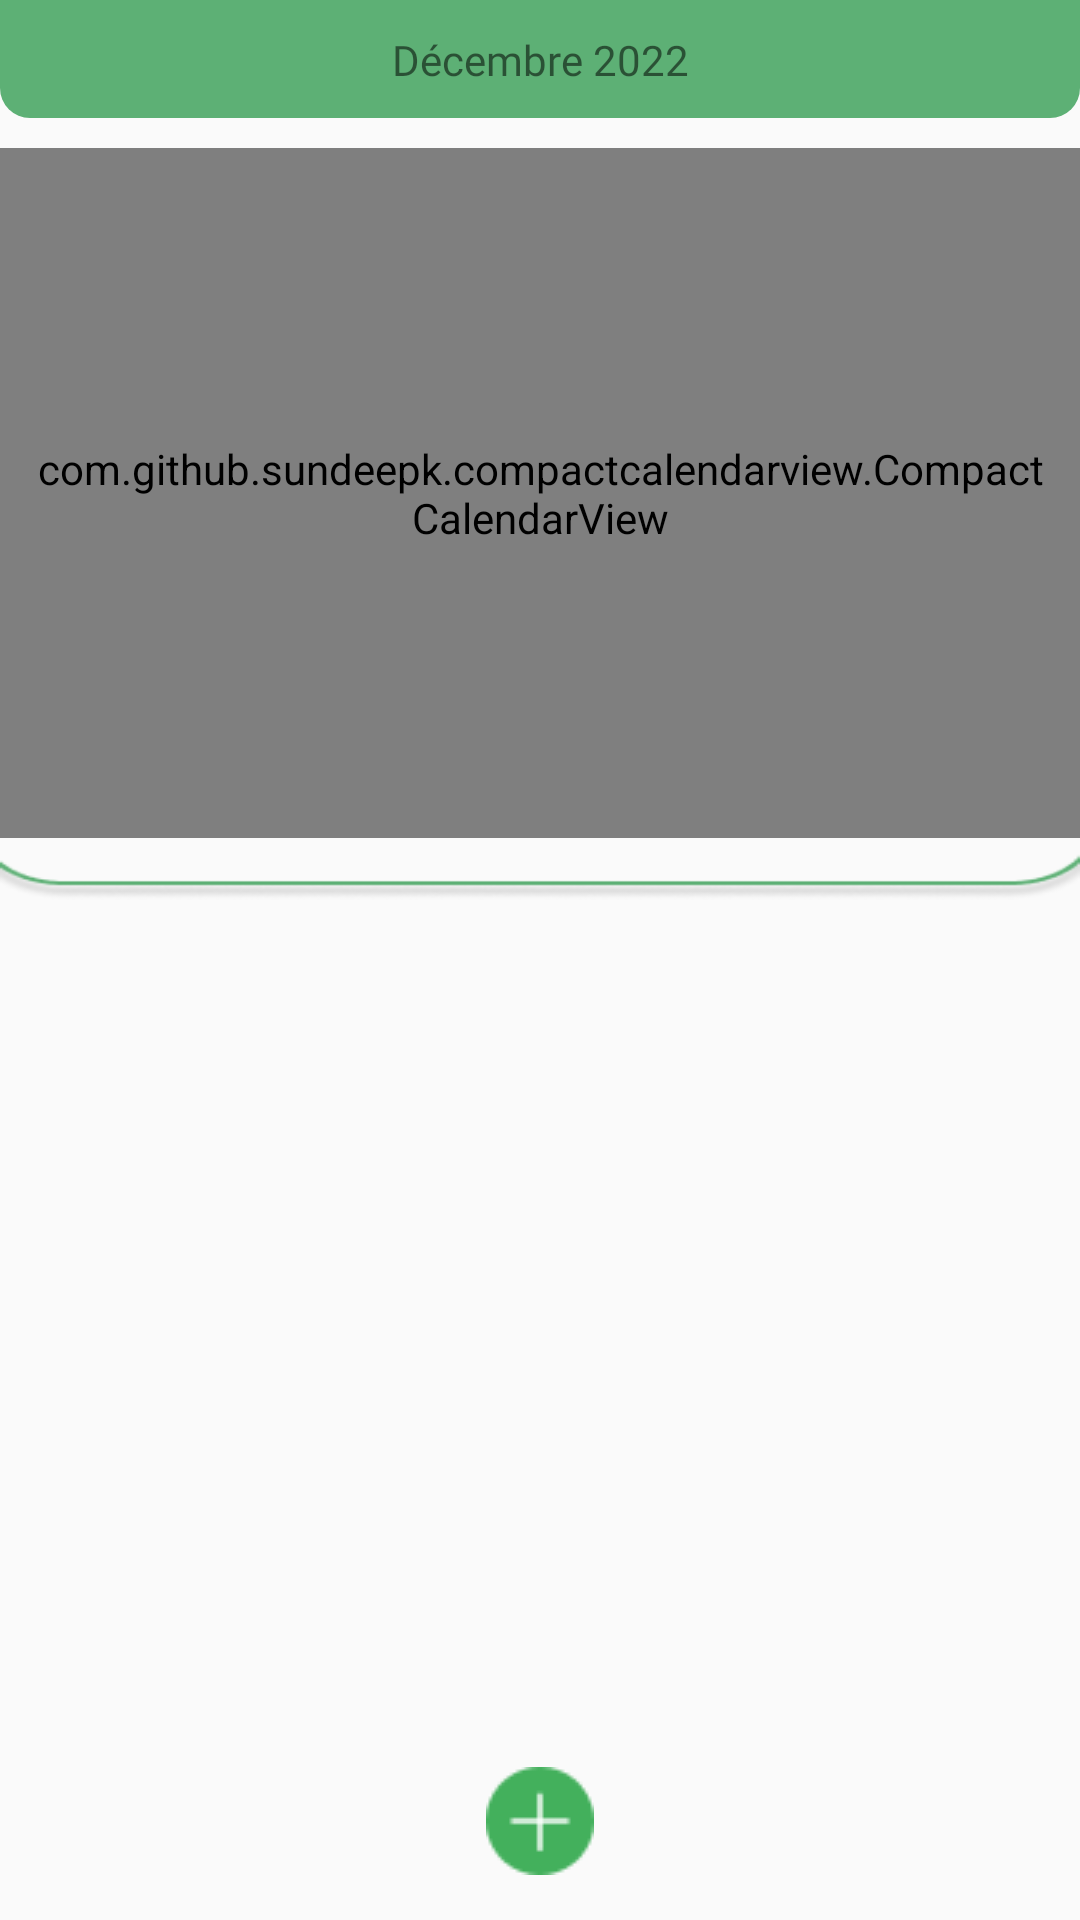

Icon bounding boxes for this 1080px x 1920px phone screenshot, format (x1, y1, x2, y2):
plus: (486, 1767, 594, 1875)
